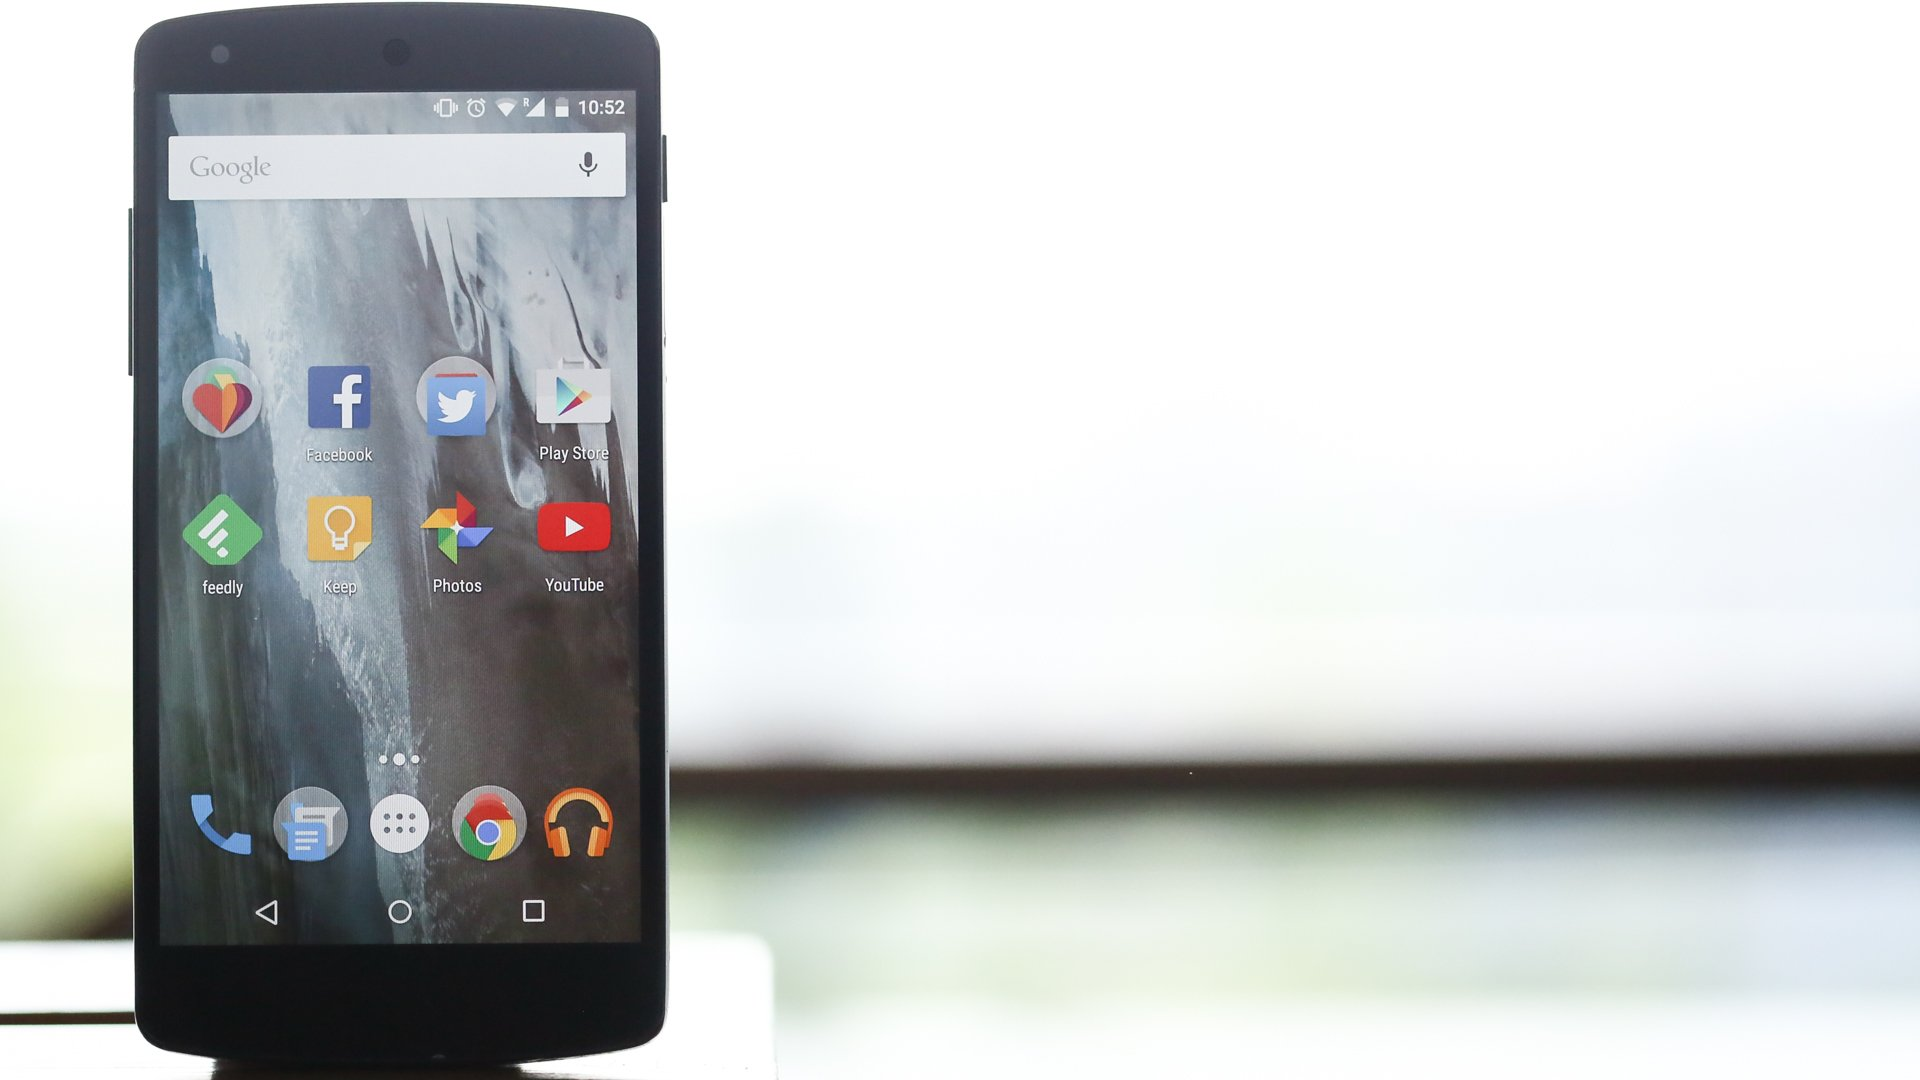smartphone: (127, 1, 667, 1060)
